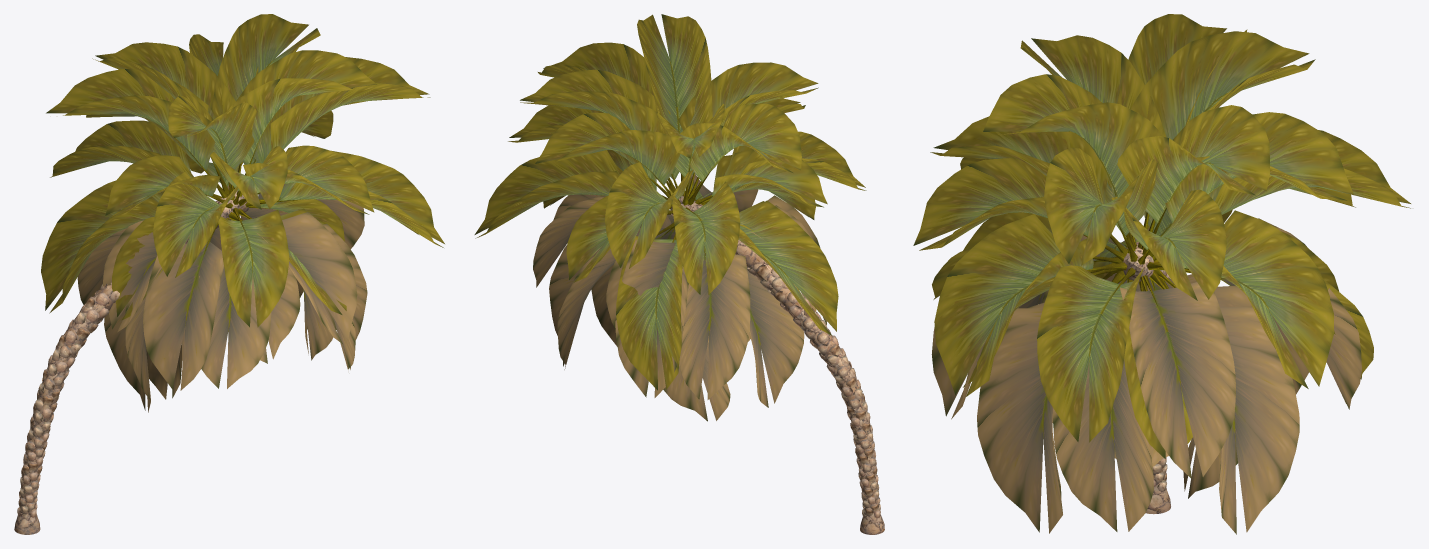
The model's file is palme2.fbx.
3 views of the same model, side by side, from view 1: azimuth 30°, elevation 25°; view 2: azimuth 150°, elevation 25°; view 3: azimuth 270°, elevation 25° (orthographic). The views are drawn at different scales.
Parts seen in each view (by area): view 1: date palm leaf1_3, date palm leaf2_4, palm bark_2, palm01_0, frond stem_1; view 2: date palm leaf1_3, date palm leaf2_4, palm bark_2, palm01_0, frond stem_1; view 3: date palm leaf1_3, date palm leaf2_4, frond stem_1, palm01_0.
Part boxes in pixels (x1,y1,x2,y2): date palm leaf1_3: [41, 14, 444, 327]; date palm leaf2_4: [77, 184, 367, 412]; palm bark_2: [17, 282, 119, 517]; palm01_0: [14, 190, 248, 534]; frond stem_1: [192, 147, 300, 255]; date palm leaf1_3: [474, 14, 866, 390]; date palm leaf2_4: [533, 174, 826, 421]; palm bark_2: [747, 264, 880, 518]; palm01_0: [670, 195, 884, 534]; frond stem_1: [649, 168, 712, 255]; date palm leaf1_3: [913, 14, 1410, 458]; date palm leaf2_4: [931, 218, 1361, 534]; frond stem_1: [1083, 191, 1225, 306]; palm01_0: [1122, 242, 1170, 514].
Bounding box in the file's own units: 495 × 530 × 417.
5 materials, 5 textured.
